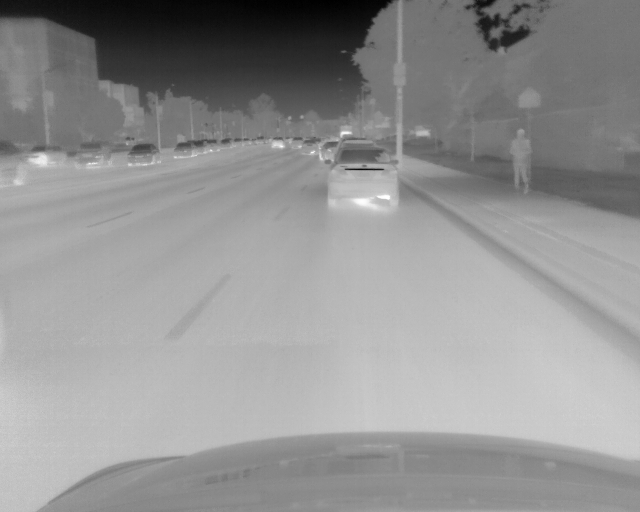car: (326, 143, 399, 208), (1, 134, 32, 186), (71, 142, 112, 170), (127, 143, 161, 167), (28, 147, 67, 166), (172, 142, 197, 158), (320, 140, 335, 160), (300, 140, 317, 157), (194, 140, 208, 155), (219, 137, 232, 150), (290, 136, 302, 150), (269, 138, 284, 149), (206, 140, 219, 151), (232, 137, 242, 147), (240, 138, 250, 146)
people: (508, 127, 534, 194)
